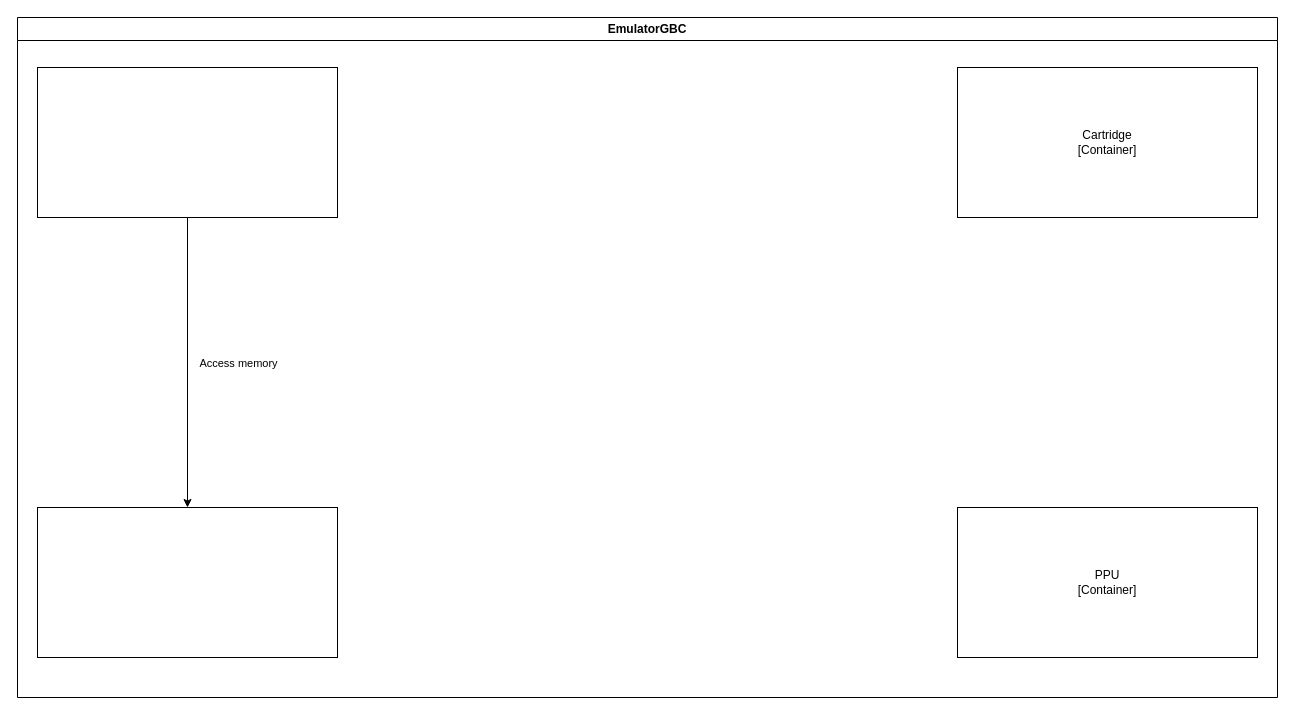
This 1295x715 diagram has some shape labels left out. The box of each missing label's shape, as (x1, y1, x2, y2) in pixels:
CPU [Container]: (36, 66, 338, 218)
Memory [Container]: (36, 506, 338, 658)
